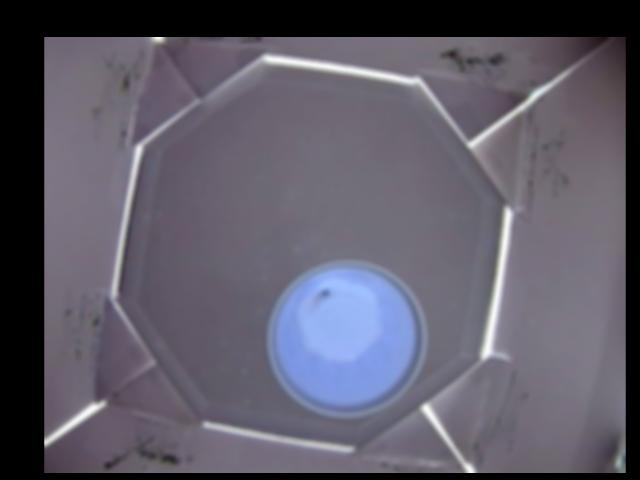Cup: (266, 258, 425, 418)
